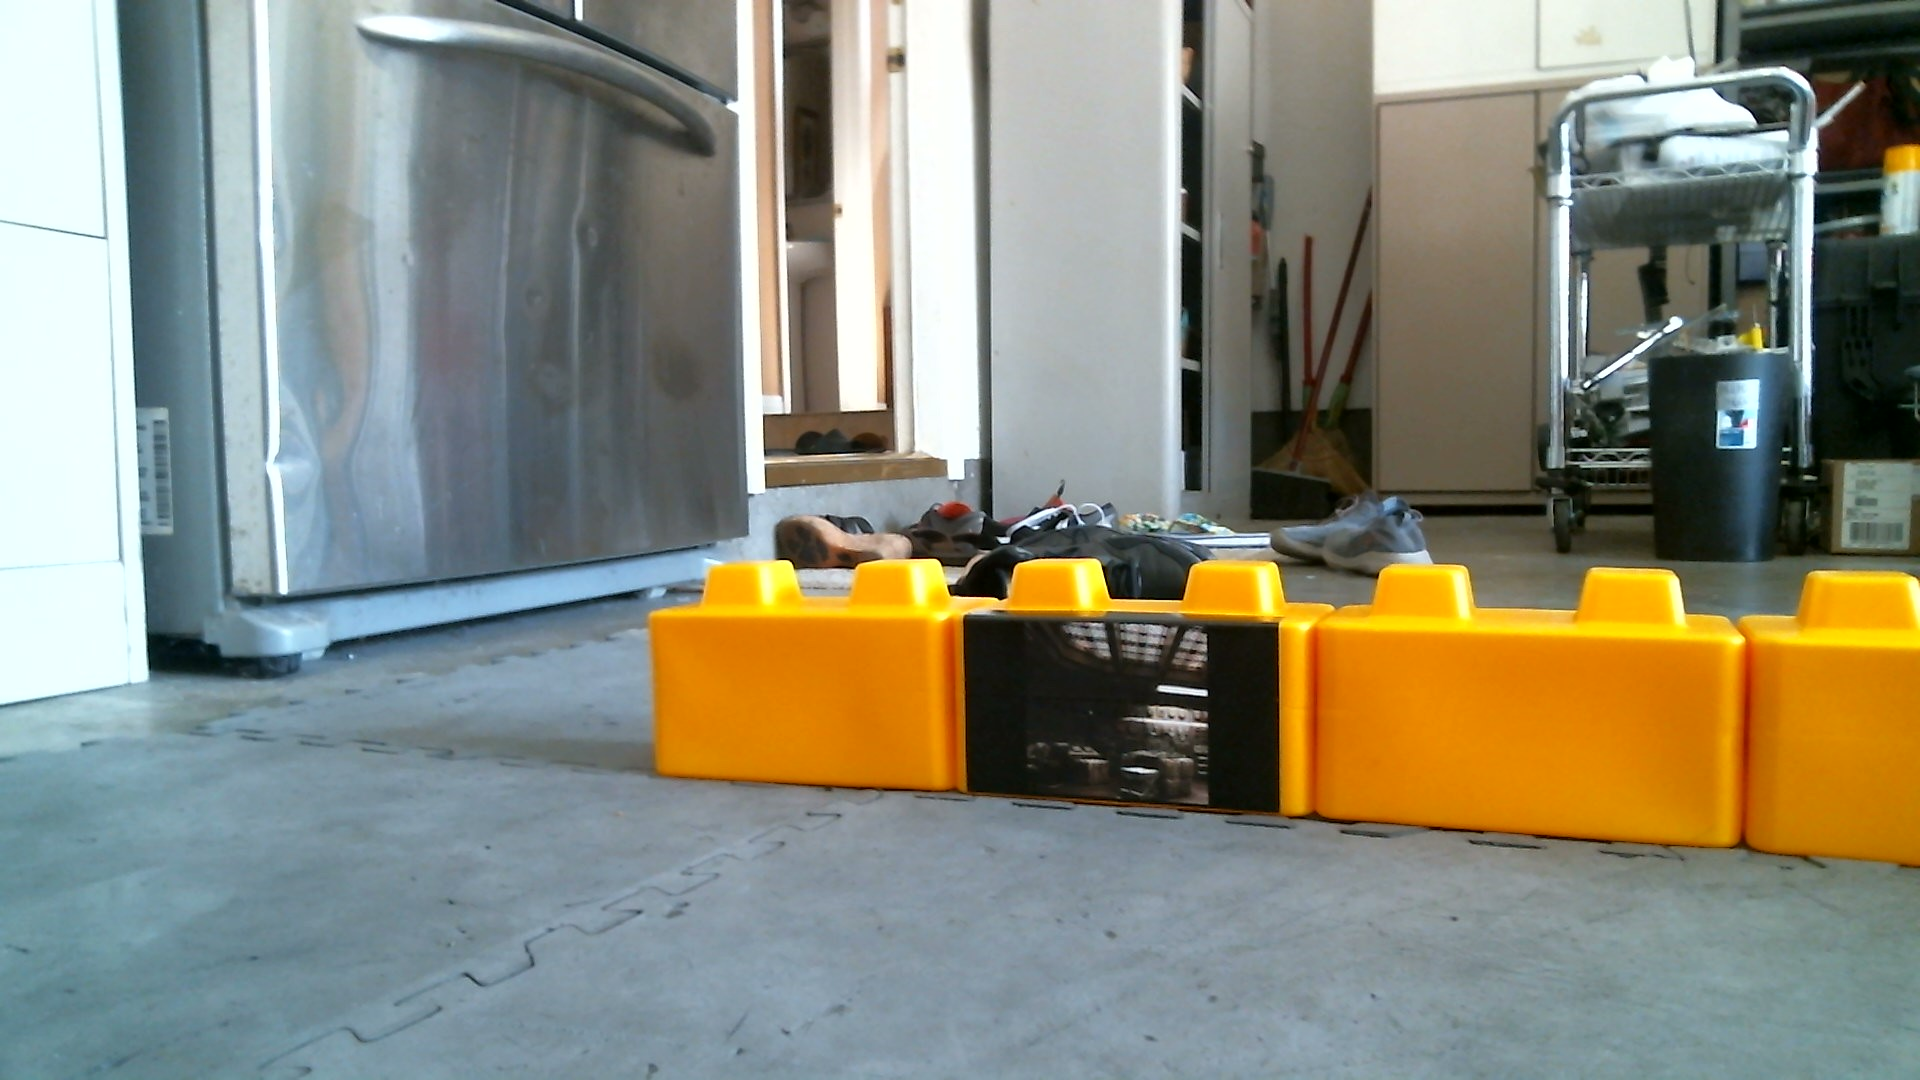skystone: (976, 568, 1309, 845)
stone: (1325, 572, 1739, 855), (661, 568, 959, 800), (1764, 583, 1920, 870)
